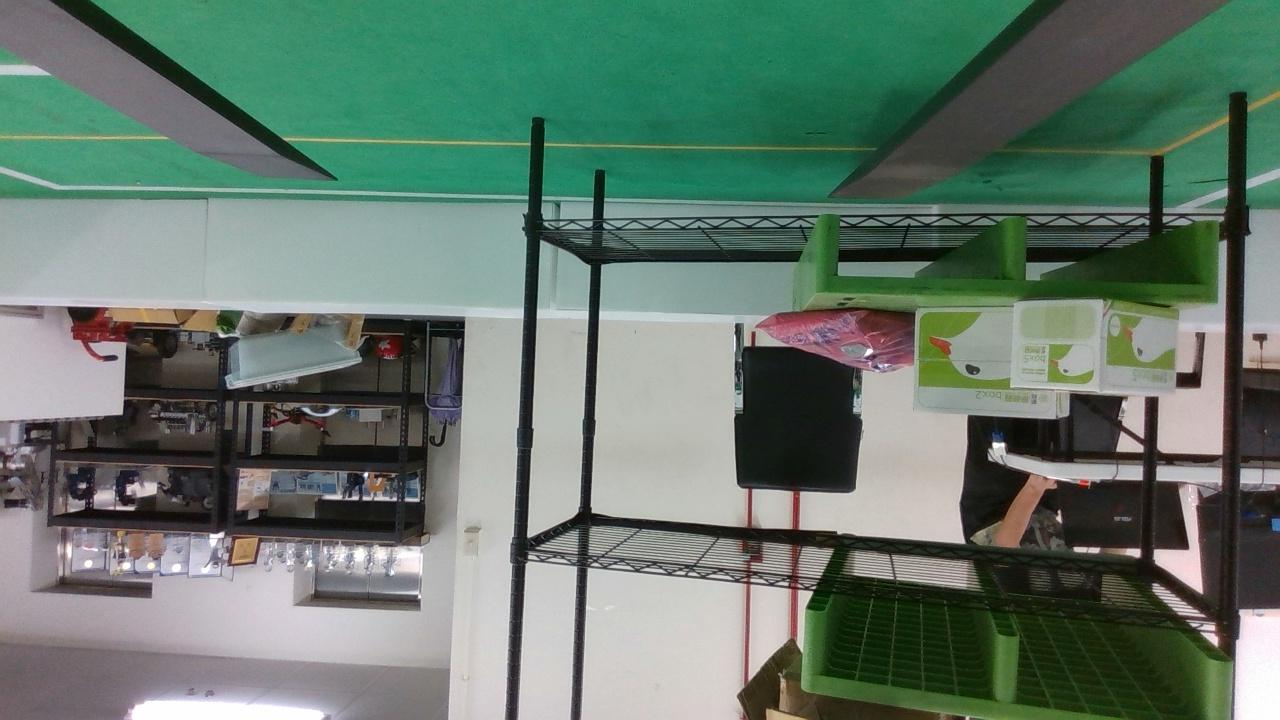Pallet: (804, 209, 1224, 301)
